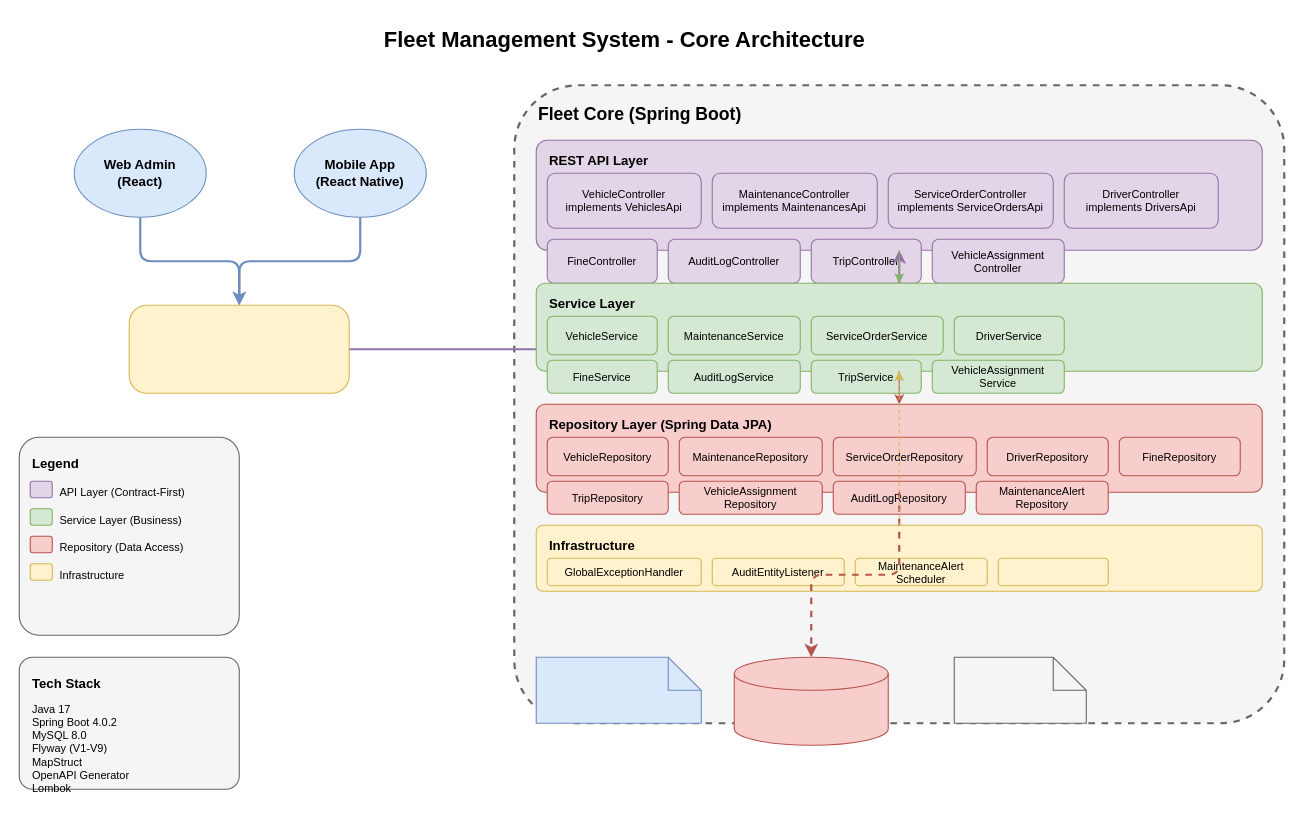
Image size: 1305x814. Some labels were removed from this diagram. The shapes that lost their labels are listed below. From the top down, each one's centre as x and y in pixels, then its label:
the point at 238,348: Fleet BFF (Spring Boot)
the point at 1052,571: ApiMapper
the point at 618,689: OpenAPI 3.0 evolutech-fleet.yaml
the point at 810,700: MySQL 8.0 Fleet DB
the point at 1019,689: Flyway Migrations V1-V9
